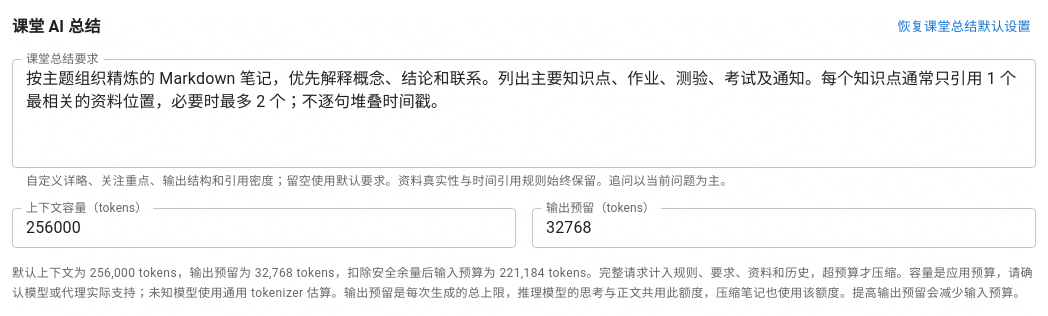
Test: edits requirements and token budgets, validates them, and restores all defaults
This screenshot has width=1048, height=316.
Check: the number field labelled "上下文容量（tokens）" holds "256000", box [12, 208, 516, 248]
Check: the number field labelled "输出预留（tokens）" holds "32768", box [532, 208, 1036, 248]
Replace the text in the text box labelled "课堂总结要求" with "详细解释公式，并列出考试重点" at (524, 113), box [26, 67, 1022, 159]
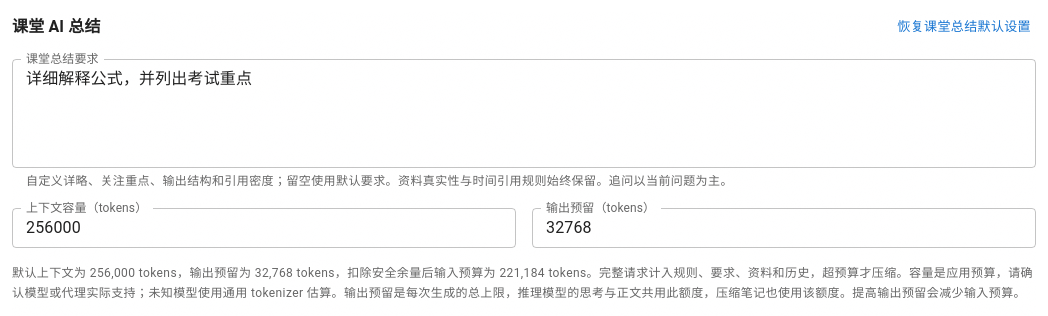
Replace the text in the number field labelled "上下文容量（tokens）" with "4096" at (264, 228), box [12, 208, 516, 248]
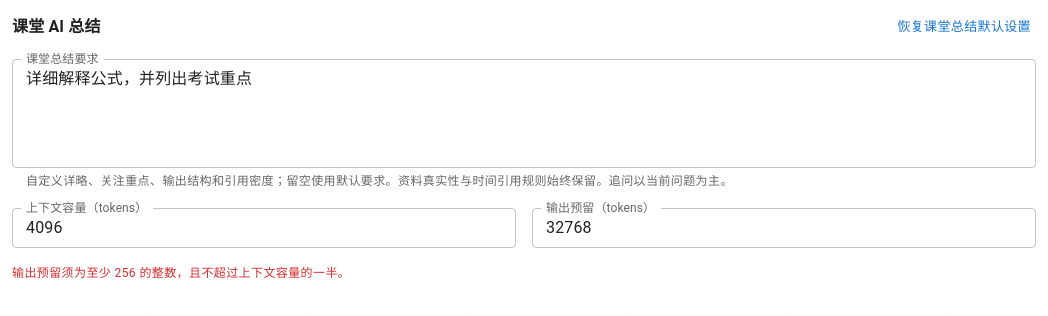
Check: the message shows "不超过上下文容量的一半", box [12, 266, 350, 280]
Replace the text in the number field labelled "输出预留（tokens）" with "1024" at (784, 228), box [532, 208, 1036, 248]
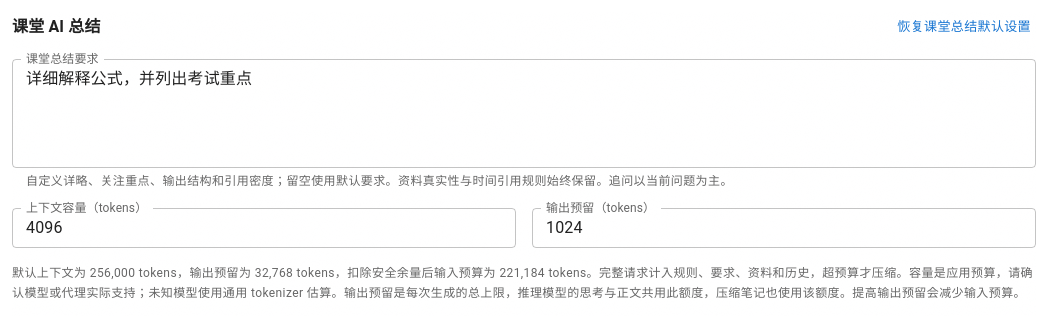
Click the button "恢复课堂总结默认设置" at (964, 27), box [892, 12, 1036, 43]
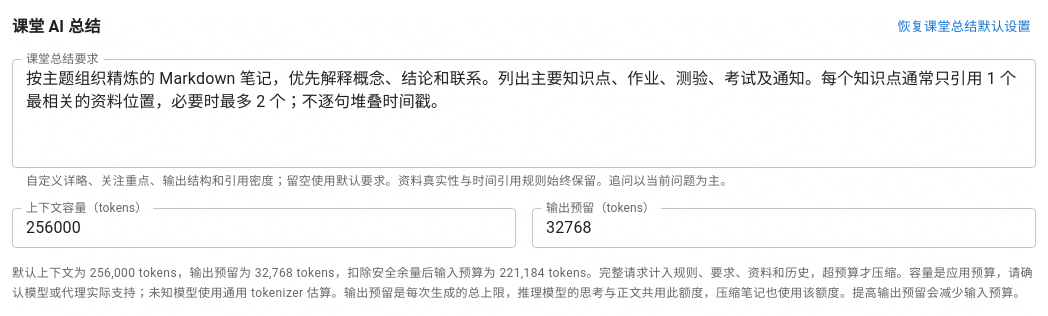
Check: the number field labelled "上下文容量（tokens）" holds "256000", box [12, 208, 516, 248]
Check: the number field labelled "输出预留（tokens）" holds "32768", box [532, 208, 1036, 248]
